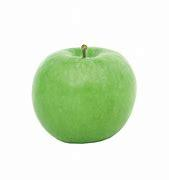apple: (23, 39, 142, 149)
